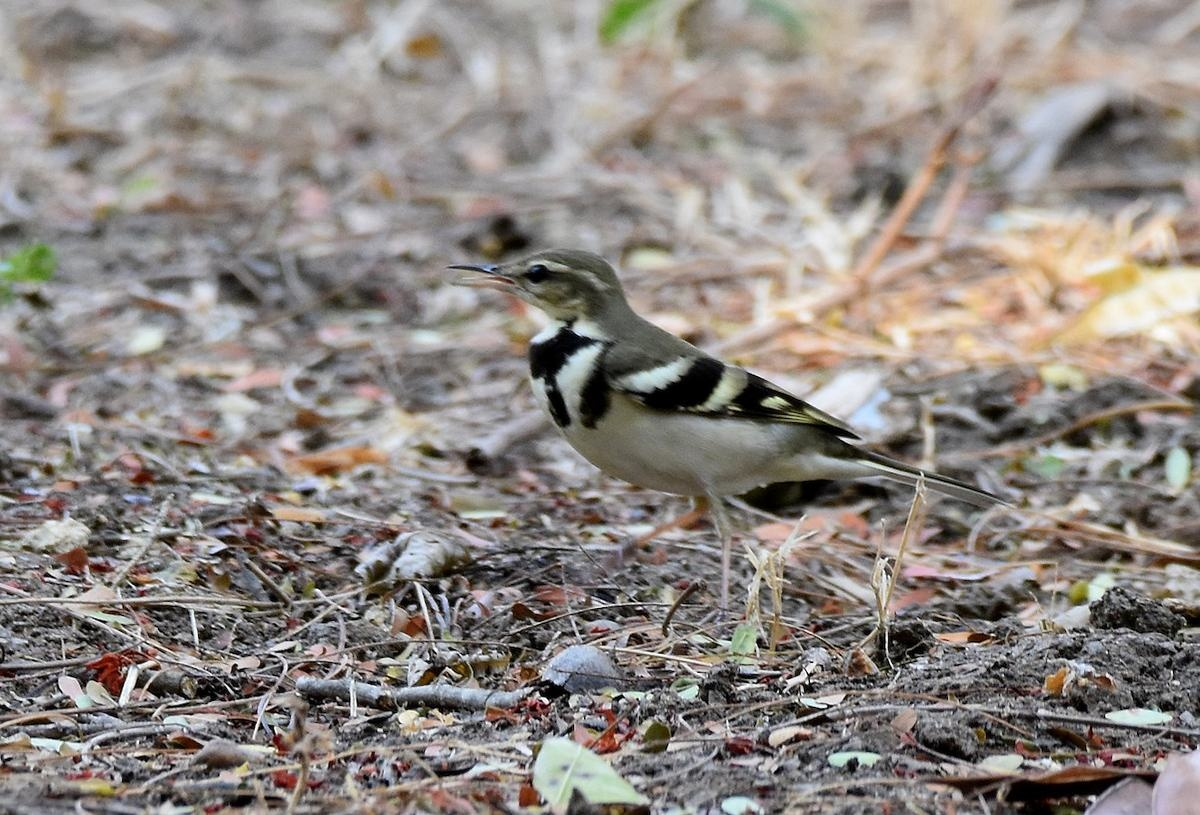wagtail: (467, 223, 983, 603)
